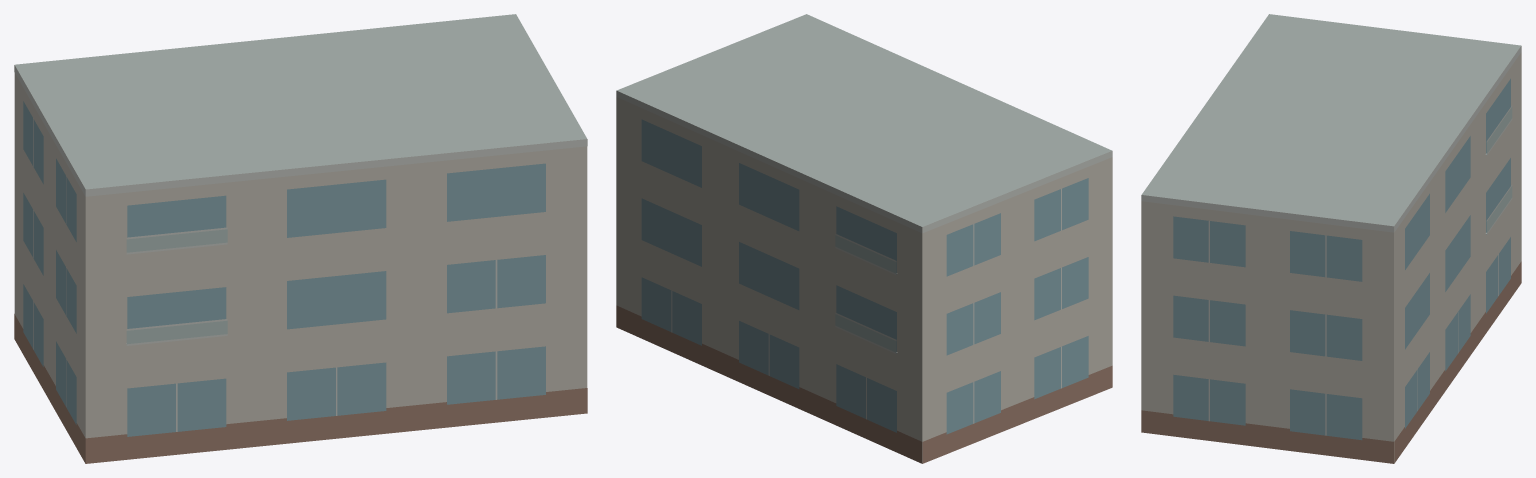
Rendered from survey-upis-32708086.glb.
3 renders of one model, left to right at view 1: azimuth 30°, elevation 25°; view 2: azimuth 150°, elevation 25°; view 3: azimuth 270°, elevation 25°, orthographic. The views are drawn at different scales.
Parts seen in each view (by area): view 1: survey-upis-32708086.tmp; view 2: survey-upis-32708086.tmp; view 3: survey-upis-32708086.tmp.
Part boxes in pixels (<box>): survey-upis-32708086.tmp: <box>14,14,587,463</box>; survey-upis-32708086.tmp: <box>616,14,1112,463</box>; survey-upis-32708086.tmp: <box>1141,14,1521,463</box>.
Bounding box in the file's own units: 17.55 × 9.15 × 13.28.
